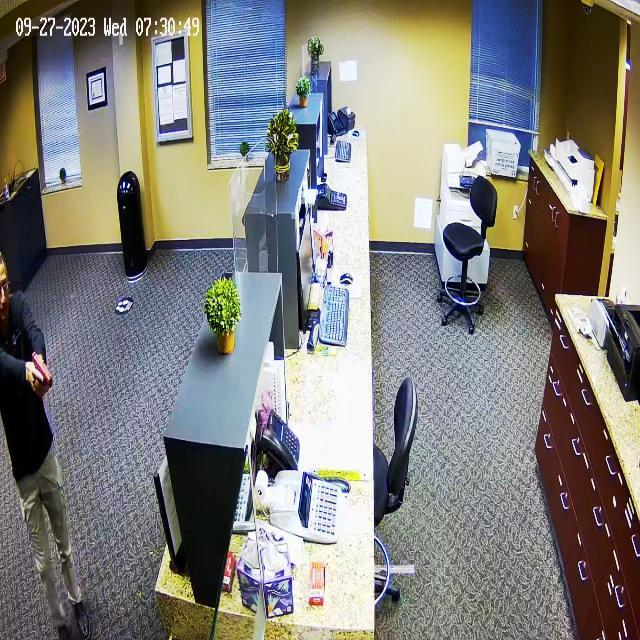Gun: (21, 346, 60, 393)
